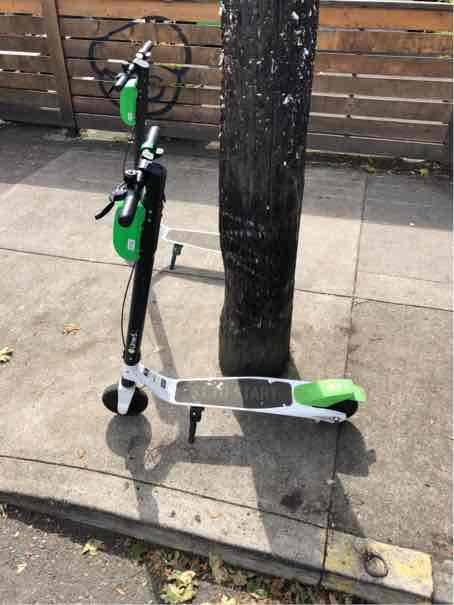scooter: (100, 108, 367, 458), (113, 28, 320, 272)
